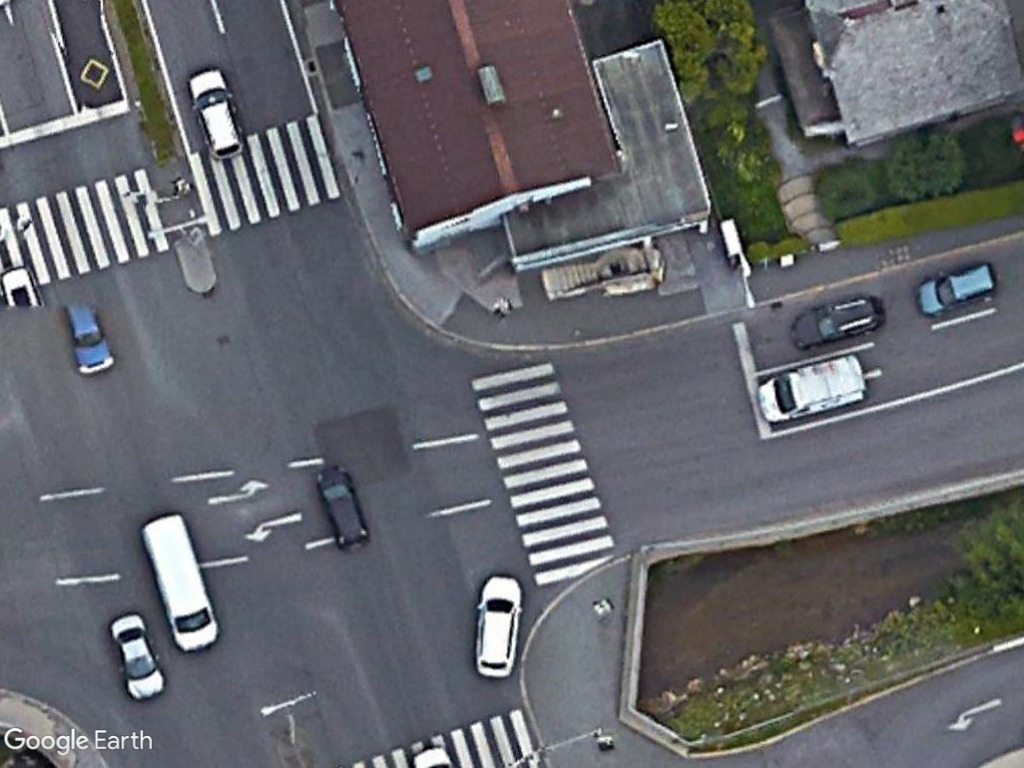car: (788, 287, 889, 354), (103, 607, 169, 708), (181, 65, 246, 167), (471, 566, 527, 684), (308, 461, 375, 556), (911, 254, 1003, 321)
van: (137, 511, 223, 659), (750, 350, 870, 424)
